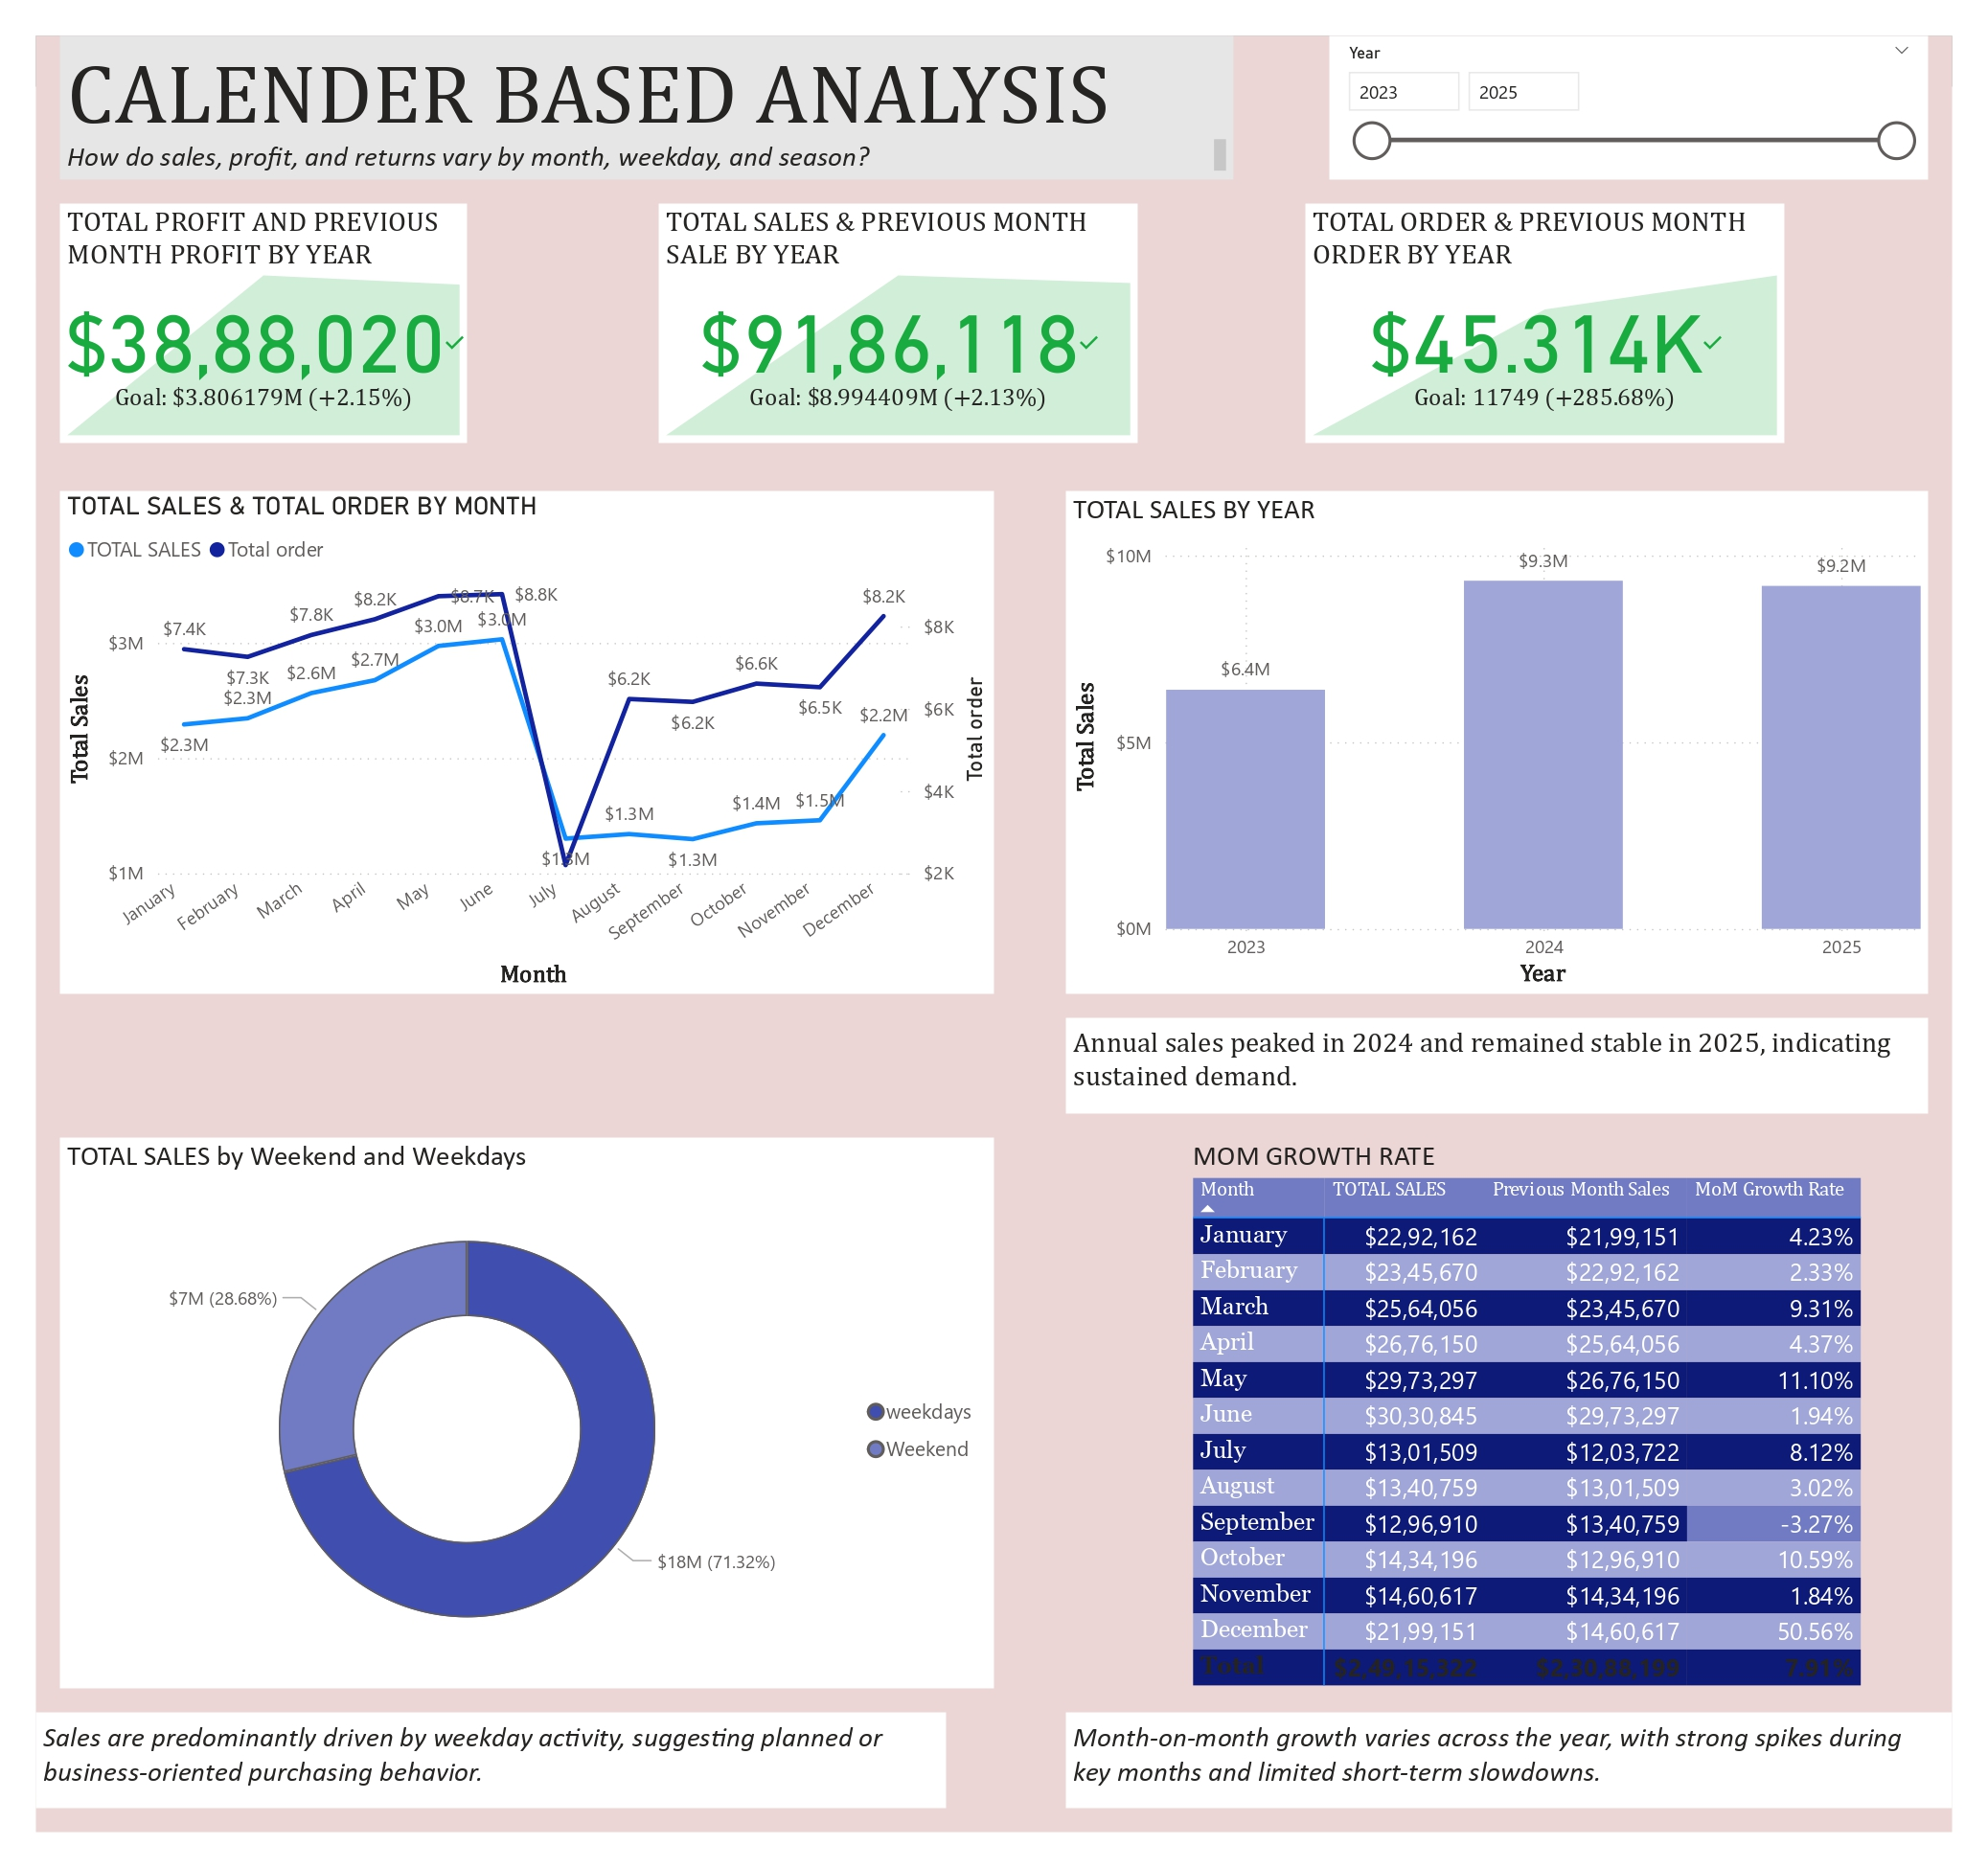

Layout of this report page (visuals, bound fields, positions):
{"tool":"powerbi","page":{"name":"Calender Based Analysis","canvas":[1280,1200],"ordinal":6},"visuals":[{"type":"textbox","box":[16,0,784,96],"z":0},{"type":"pivotTable","title":"MOM GROWTH RATE ","fields":{"Rows":["Calendar Lookup (1) csv.Date.Variation.Date Hierarchy.Month"],"Values":["ALL MEASURES.TOTAL SALES","ALL MEASURES.Previous Month Sales","ALL MEASURES.MoM Growth Rate"]},"box":[768,736,496,400],"z":1000},{"type":"clusteredColumnChart","title":"TOTAL SALES BY YEAR","fields":{"Category":["Calendar Lookup (1) csv.Date.Variation.Date Hierarchy.Year"],"Y":["ALL MEASURES.TOTAL SALES"]},"box":[688,304,576,336],"z":2000},{"type":"slicer","fields":{"Values":["Calendar Lookup (1) csv.Date.Variation.Date Hierarchy.Year"]},"box":[864,0,400,96],"z":3000},{"type":"kpi","title":"TOTAL PROFIT AND PREVIOUS MONTH PROFIT BY YEAR","fields":{"Indicator":["ALL MEASURES.Total Profit"],"Goal":["ALL MEASURES.Prev Month Profit"],"TrendLine":["Calendar Lookup (1) csv.Date.Variation.Date Hierarchy.Year"]},"box":[16,112,272,160],"z":4000},{"type":"kpi","title":"TOTAL SALES & PREVIOUS MONTH SALE BY YEAR","fields":{"Indicator":["ALL MEASURES.TOTAL SALES"],"Goal":["ALL MEASURES.Previous Month Sales"],"TrendLine":["Calendar Lookup (1) csv.Date.Variation.Date Hierarchy.Year"]},"box":[416,112,320,160],"z":5000},{"type":"kpi","title":"TOTAL ORDER & PREVIOUS MONTH ORDER BY YEAR ","fields":{"Goal":["ALL MEASURES.Previous Month Orders"],"TrendLine":["Calendar Lookup (1) csv.Date.Variation.Date Hierarchy.Year"],"Indicator":["ALL MEASURES.Total order"]},"box":[848,112,320,160],"z":6000},{"type":"lineChart","title":"TOTAL SALES & TOTAL ORDER BY MONTH","fields":{"Category":["Calendar Lookup (1) csv.Date.Variation.Date Hierarchy.Month"],"Y":["ALL MEASURES.TOTAL SALES"],"Y2":["ALL MEASURES.Total order"]},"box":[16,304,624,336],"z":7000},{"type":"donutChart","title":"TOTAL SALES by Weekend and Weekdays","fields":{"Category":["Calendar Lookup (1) csv.SWITCHES"],"Y":["ALL MEASURES.TOTAL SALES"]},"box":[16,736,624,368],"z":8000},{"type":"textbox","box":[0,1120,608,64],"z":9000},{"type":"textbox","box":[688,1120,592,64],"z":10000},{"type":"textbox","box":[688,656,576,64],"z":11000},{"type":"textbox","box":[16,64,784,32],"z":13000}]}

Visuals, with their boxes in screenshot pixels (x1, y1, x2, y2), scaled from the page's 1280x1200 canvas onto the 1988x1868 screenshot:
textbox: box=[25, 0, 1243, 149]
"MOM GROWTH RATE " pivotTable: box=[1193, 1146, 1963, 1768]
"TOTAL SALES BY YEAR" clusteredColumnChart: box=[1068, 473, 1963, 996]
slicer - Calendar Lookup (1) csv.Date.Variation.Date Hierarchy.Year: box=[1342, 0, 1963, 149]
"TOTAL PROFIT AND PREVIOUS MONTH PROFIT BY YEAR" kpi: box=[25, 174, 447, 423]
"TOTAL SALES & PREVIOUS MONTH SALE BY YEAR" kpi: box=[646, 174, 1143, 423]
"TOTAL ORDER & PREVIOUS MONTH ORDER BY YEAR " kpi: box=[1317, 174, 1814, 423]
"TOTAL SALES & TOTAL ORDER BY MONTH" lineChart: box=[25, 473, 994, 996]
"TOTAL SALES by Weekend and Weekdays" donutChart: box=[25, 1146, 994, 1719]
textbox: box=[0, 1743, 945, 1843]
textbox: box=[1068, 1743, 1987, 1843]
textbox: box=[1068, 1021, 1963, 1121]
textbox: box=[25, 100, 1243, 149]
